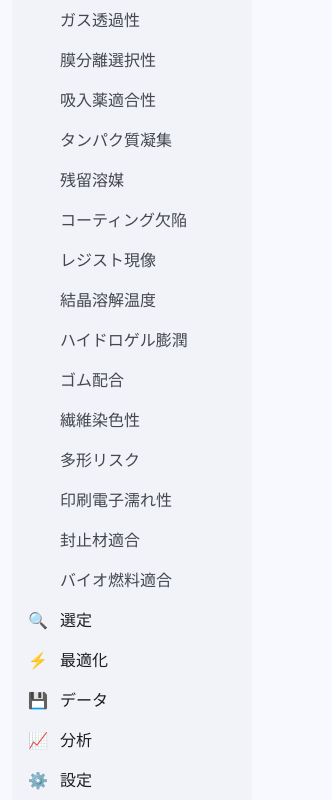
Scenario: NavigationDrawer › カテゴリクリックで展開が切り替わる
This screenshot has width=332, height=800.
(page scrolled)
「選定」カテゴリをクリック → サブ項目が表示される
Step 1. Click the text "選定" → (76, 620), box [60,608,92,632]
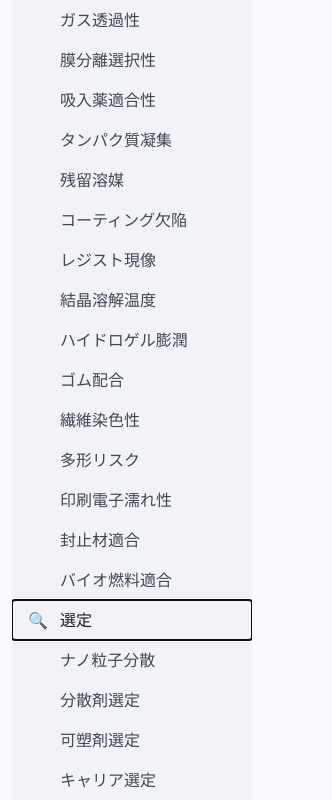
Expected: the button "ナノ粒子分散" is shown, [12,640,252,680]
Expected: the button "可塑剤選定" is shown, [12,720,252,760]
